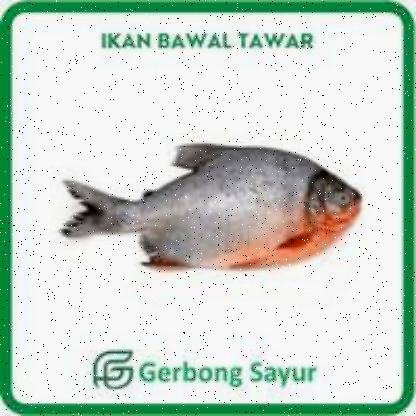ikan-pacu: (62, 142, 362, 272)
